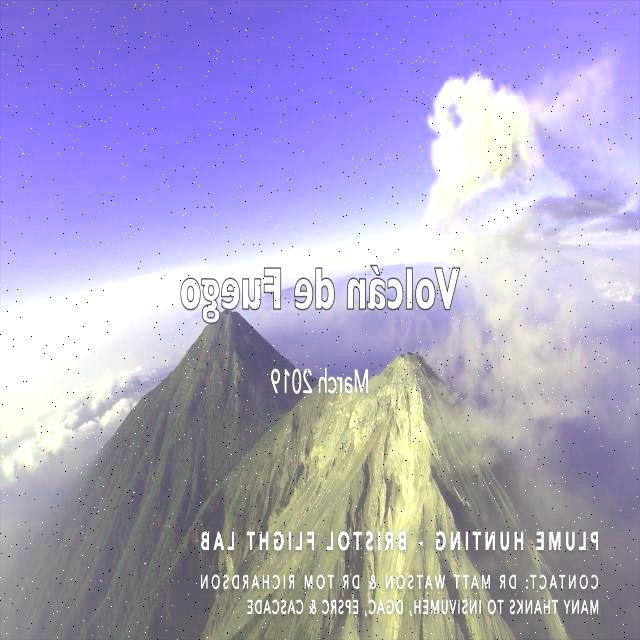Plume: (414, 70, 534, 240)
Summit: (286, 345, 536, 526)
